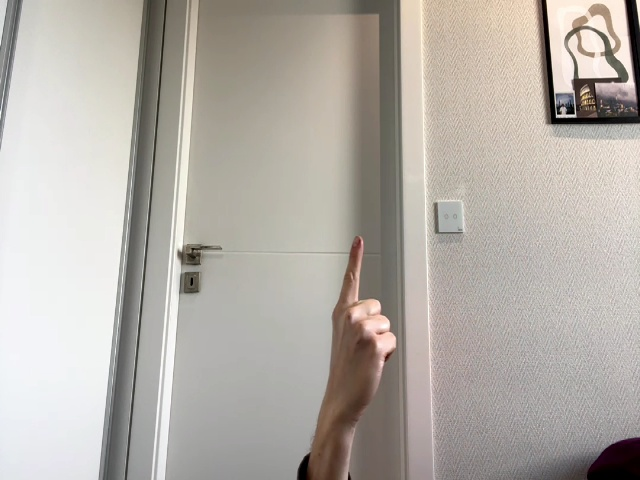D: (330, 237, 397, 422)
